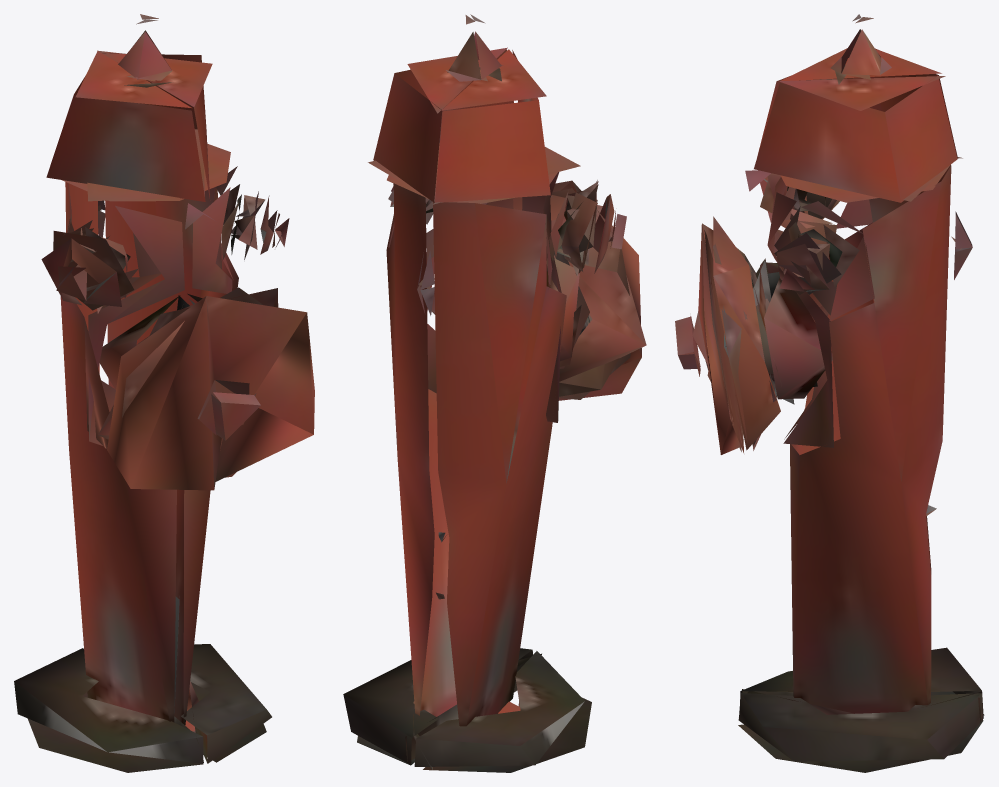
Rendered from detail_hydrant.glb.
3 renders of one model, left to right at view 1: azimuth 30°, elevation 25°; view 2: azimuth 150°, elevation 25°; view 3: azimuth 270°, elevation 25°, orthographic.
Visible parts, largest first — view 1: detail_hydrant_LOD0; view 2: detail_hydrant_LOD0; view 3: detail_hydrant_LOD0.
Part boxes in pixels (x1,y1,x2,y2): detail_hydrant_LOD0: (14, 14, 314, 772); detail_hydrant_LOD0: (343, 14, 646, 772); detail_hydrant_LOD0: (675, 14, 984, 772).
Size of what is drawn, in the model's own units: 0.2729 by 0.8016 by 0.3184.
Materials: 1 (1 with a texture image).
